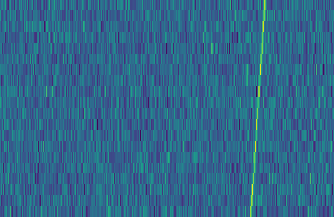signal: (247, 0, 271, 217)
